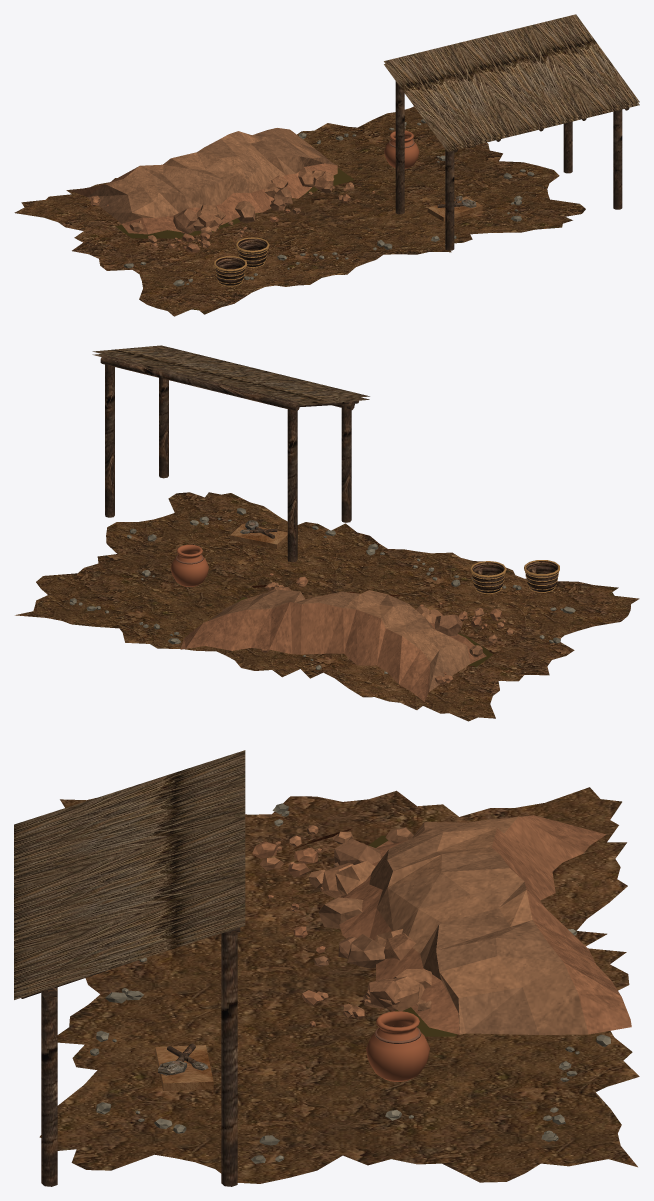
Rendered from claypit@2.glb.
The picture shows the model from 3 angles, top to bottom: view 1: azimuth 30°, elevation 25°; view 2: azimuth 150°, elevation 25°; view 3: azimuth 270°, elevation 25°; orthographic projection. The views are drawn at different scales.
Parts seen in each view (by area): view 1: part_0, part_12, part_1, part_9, part_4, part_3, part_5, part_6, part_8; view 2: part_0, part_1, part_9, part_12, part_4, part_6, part_5, part_8; view 3: part_0, part_1, part_12, part_9, part_6, part_8.
Boxes of the visible parts, x1,y1,x2,y2 form: part_0: (14,106,585,316); part_12: (384,14,639,151); part_1: (71,119,534,286); part_9: (395,81,629,250); part_4: (215,238,267,285); part_3: (115,168,354,238); part_5: (213,237,269,286); part_6: (384,130,419,168); part_8: (427,196,482,221); part_0: (15,492,639,721); part_1: (69,508,575,701); part_9: (100,355,358,562); part_12: (92,345,369,405); part_4: (472,561,558,593); part_6: (170,544,208,586); part_5: (470,560,559,594); part_8: (230,523,287,548); part_0: (39,787,639,1183); part_1: (90,803,631,1163); part_12: (14,750,245,999); part_9: (21,927,240,1186); part_6: (366,1011,429,1081); part_8: (155,1045,213,1090).
Size of the model in its own units: 5.7 by 1.81 by 3.66.
13 materials, 8 textured.
